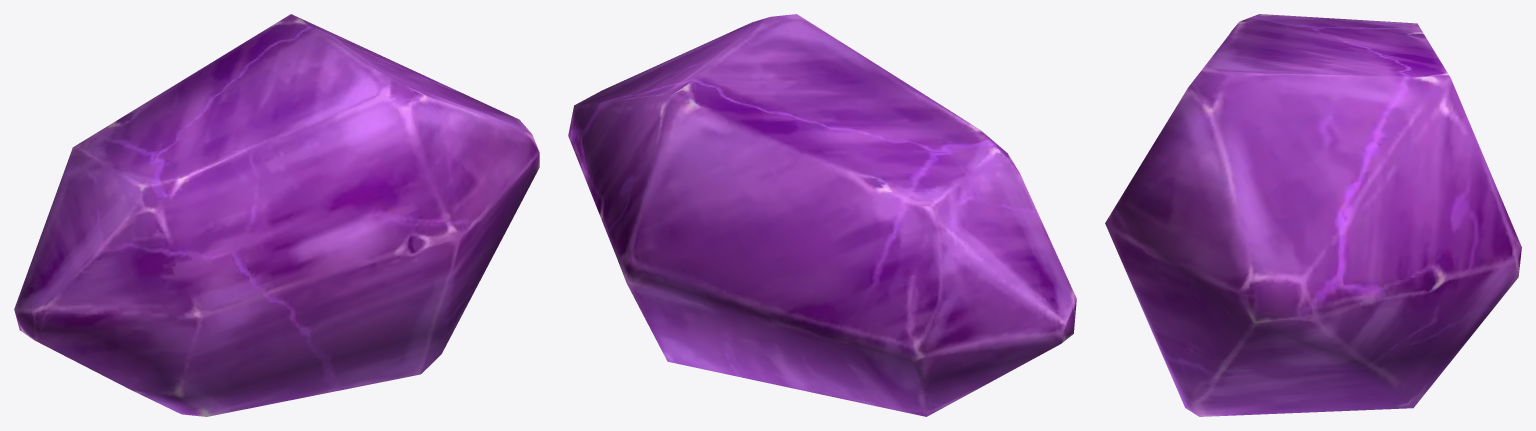
The picture shows the model from 3 angles, left to right: view 1: azimuth 30°, elevation 25°; view 2: azimuth 150°, elevation 25°; view 3: azimuth 270°, elevation 25°; orthographic projection. The views are drawn at different scales.
Parts seen in each view (by area): view 1: SM_Gemstone_Dragonstone_01_LOD0; view 2: SM_Gemstone_Dragonstone_01_LOD0; view 3: SM_Gemstone_Dragonstone_01_LOD0.
Part boxes in pixels (x1,y1,x2,y2): SM_Gemstone_Dragonstone_01_LOD0: (14, 14, 539, 416); SM_Gemstone_Dragonstone_01_LOD0: (568, 14, 1076, 416); SM_Gemstone_Dragonstone_01_LOD0: (1105, 14, 1521, 416).
Size of the model in its own units: 0.3544 by 0.1969 by 0.2251.
Materials: 1 (1 with a texture image).
